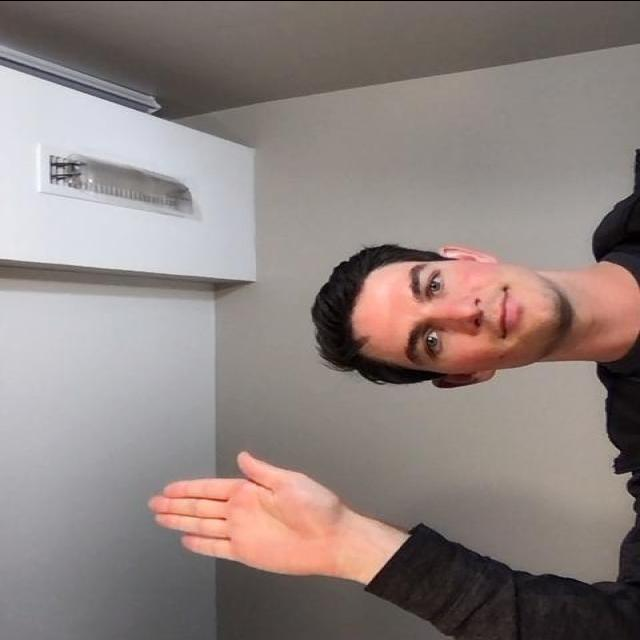Paper: (142, 447, 358, 577)
